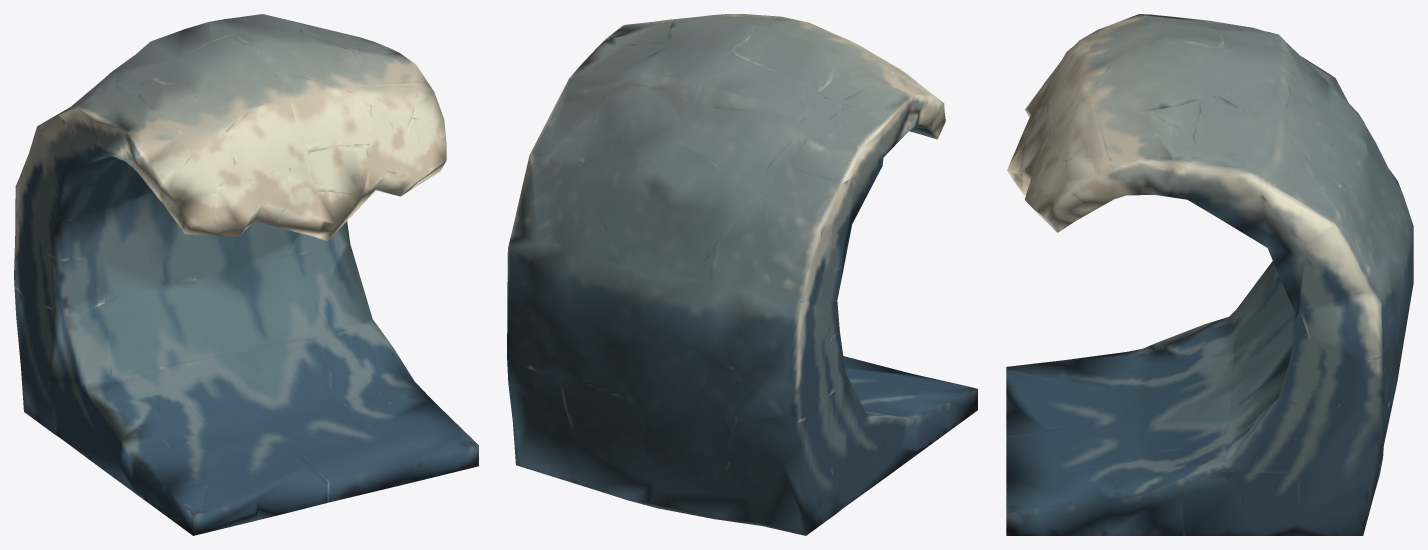
The model's file is ola.glb.
The picture shows the model from 3 angles, left to right: view 1: azimuth 30°, elevation 25°; view 2: azimuth 150°, elevation 25°; view 3: azimuth 270°, elevation 25°; orthographic projection. The views are drawn at different scales.
Bounding box in the file's own units: 1.42 × 1.9 × 1.67.
Materials: 1 (1 with a texture image).
